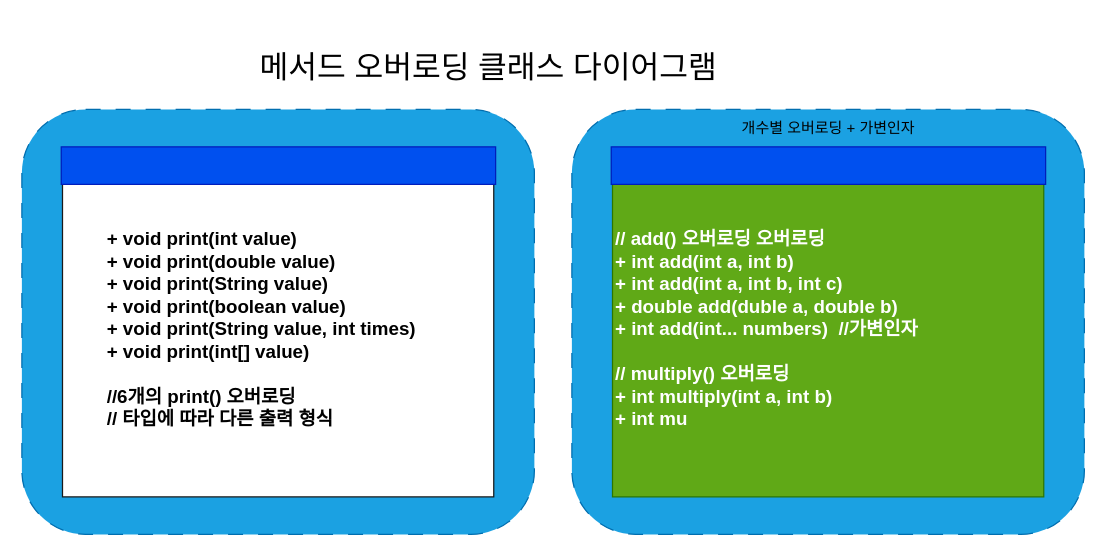
Some shapes in this 1106 by 556 pixel diagram are drawn without their labels. Here are the shapes that lost their labels. From the top down, the centre of each, then its label:
point 278,165: Printer
point 828,165: AdvancedCalculator
